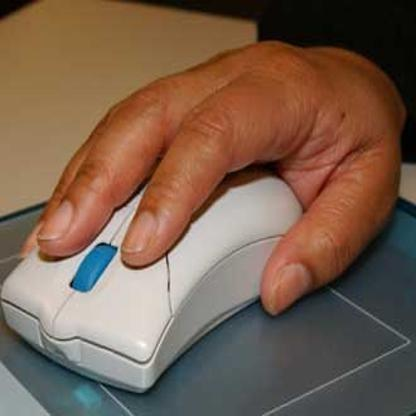not trash: (4, 164, 315, 396)
